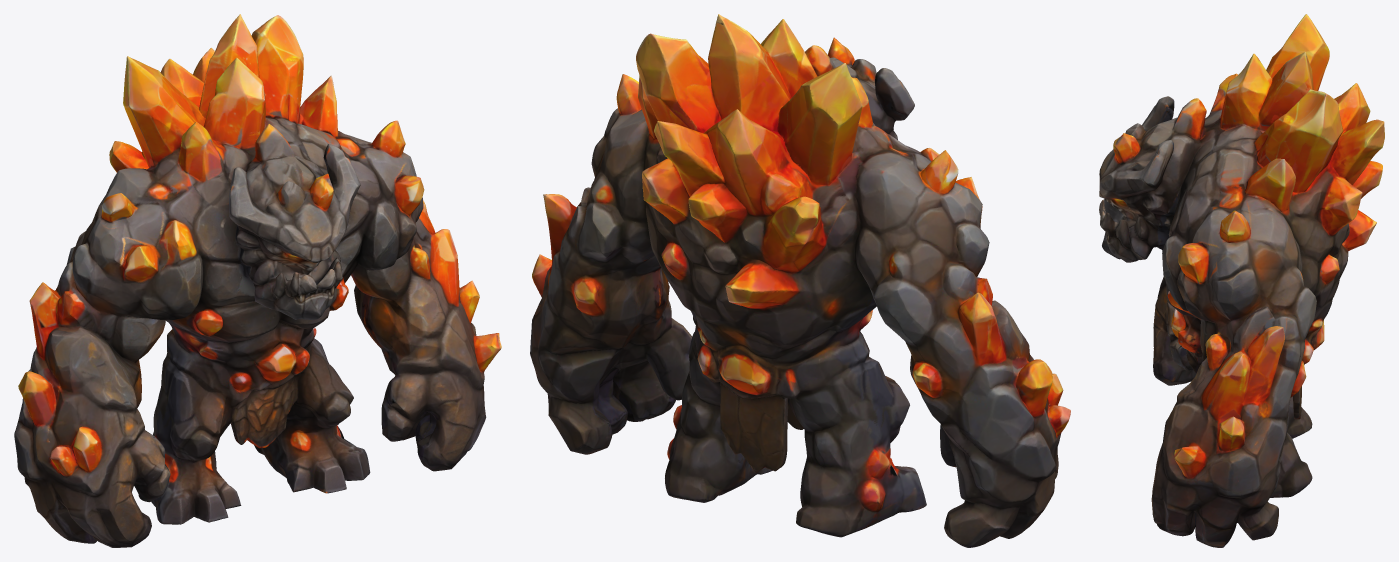
File: firewallSlime.glb
3 views of the same model, side by side, from view 1: azimuth 30°, elevation 25°; view 2: azimuth 150°, elevation 25°; view 3: azimuth 270°, elevation 25° (orthographic). The views are drawn at different scales.
Bounding box in the file's own units: 2 × 1.86 × 1.13.
Materials: 1 (1 with a texture image).
